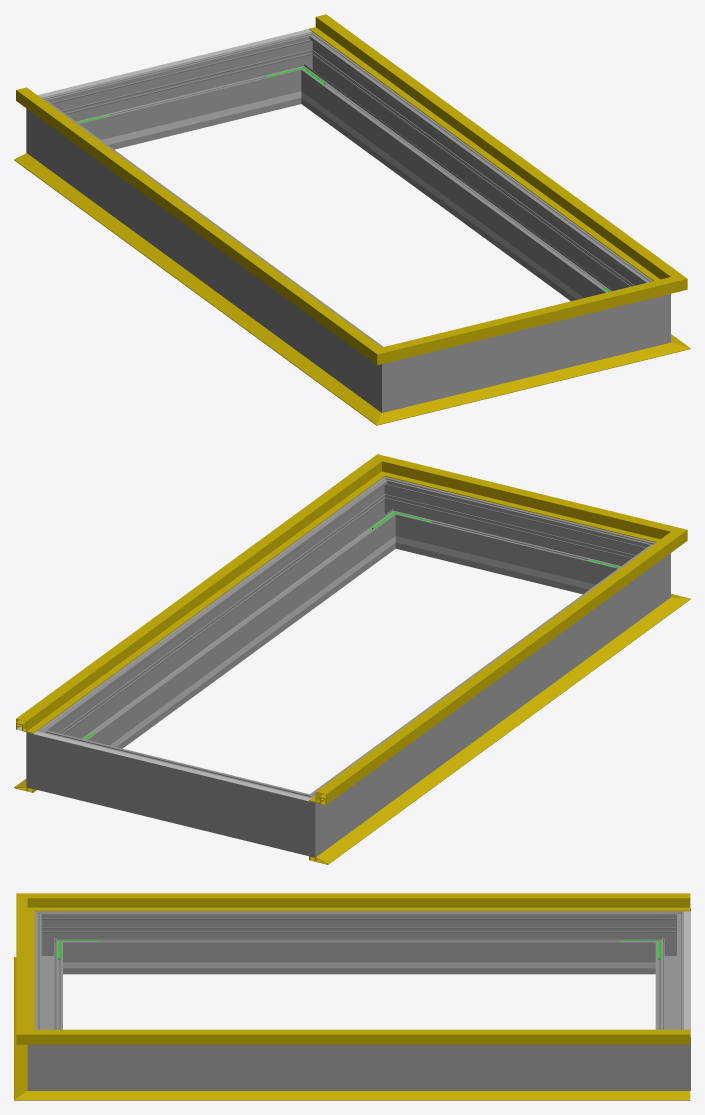
The picture shows the model from 3 angles, top to bottom: view 1: azimuth 30°, elevation 25°; view 2: azimuth 150°, elevation 25°; view 3: azimuth 270°, elevation 25°; orthographic projection. The views are drawn at different scales.
Parts seen in each view (by area): view 1: 3DGeom-298, 3DGeom-269, 3DGeom-277, 3DGeom-299, 3DGeom-128, 3DGeom-118, 3DGeom-38, 3DGeom-123, 3DGeom-271, 3DGeom-28, 3DGeom-285, 3DGeom-291 (+7 smaller); view 2: 3DGeom-298, 3DGeom-269, 3DGeom-299, 3DGeom-277, 3DGeom-128, 3DGeom-118, 3DGeom-38, 3DGeom-123, 3DGeom-279, 3DGeom-285, 3DGeom-291, 3DGeom-238 (+5 smaller); view 3: 3DGeom-269, 3DGeom-298, 3DGeom-118, 3DGeom-128, 3DGeom-30, 3DGeom-233, 3DGeom-299, 3DGeom-277, 3DGeom-285, 3DGeom-291, 3DGeom-123, 3DGeom-279 (+6 smaller).
Part boxes in pixels (box(x1,y1,x2,y2)): 3DGeom-298: box(305, 45, 641, 301); 3DGeom-269: box(49, 111, 371, 395); 3DGeom-277: box(69, 39, 294, 149); 3DGeom-299: box(421, 303, 631, 403); 3DGeom-128: box(309, 14, 664, 276); 3DGeom-118: box(16, 87, 364, 348); 3DGeom-38: box(14, 153, 366, 408); 3DGeom-123: box(411, 284, 648, 355); 3DGeom-271: box(359, 338, 421, 412); 3DGeom-28: box(409, 349, 651, 415); 3DGeom-285: box(279, 31, 331, 106); 3DGeom-291: box(631, 273, 670, 351); 3DGeom-298: box(55, 490, 391, 748); 3DGeom-269: box(325, 556, 648, 840); 3DGeom-299: box(402, 484, 627, 594); 3DGeom-277: box(65, 736, 282, 847); 3DGeom-128: box(16, 471, 371, 733); 3DGeom-118: box(309, 544, 664, 804); 3DGeom-38: box(309, 608, 668, 864); 3DGeom-123: box(407, 464, 647, 538); 3DGeom-279: box(276, 783, 337, 857); 3DGeom-285: box(26, 717, 72, 796); 3DGeom-291: box(366, 476, 417, 551); 3DGeom-238: box(110, 552, 373, 746); 3DGeom-269: box(70, 911, 648, 974); 3DGeom-298: box(70, 1044, 648, 1090); 3DGeom-118: box(58, 893, 690, 911); 3DGeom-128: box(58, 1029, 690, 1044); 3DGeom-30: box(56, 1091, 690, 1100); 3DGeom-233: box(103, 962, 614, 968); 3DGeom-299: box(34, 926, 62, 1029); 3DGeom-277: box(655, 926, 683, 1029); 3DGeom-285: box(648, 1022, 690, 1090); 3DGeom-291: box(27, 1022, 69, 1090); 3DGeom-123: box(16, 911, 34, 1025); 3DGeom-279: box(648, 908, 690, 974).
Size of the model in its own units: 1.22 by 0.2596 by 2.44.
